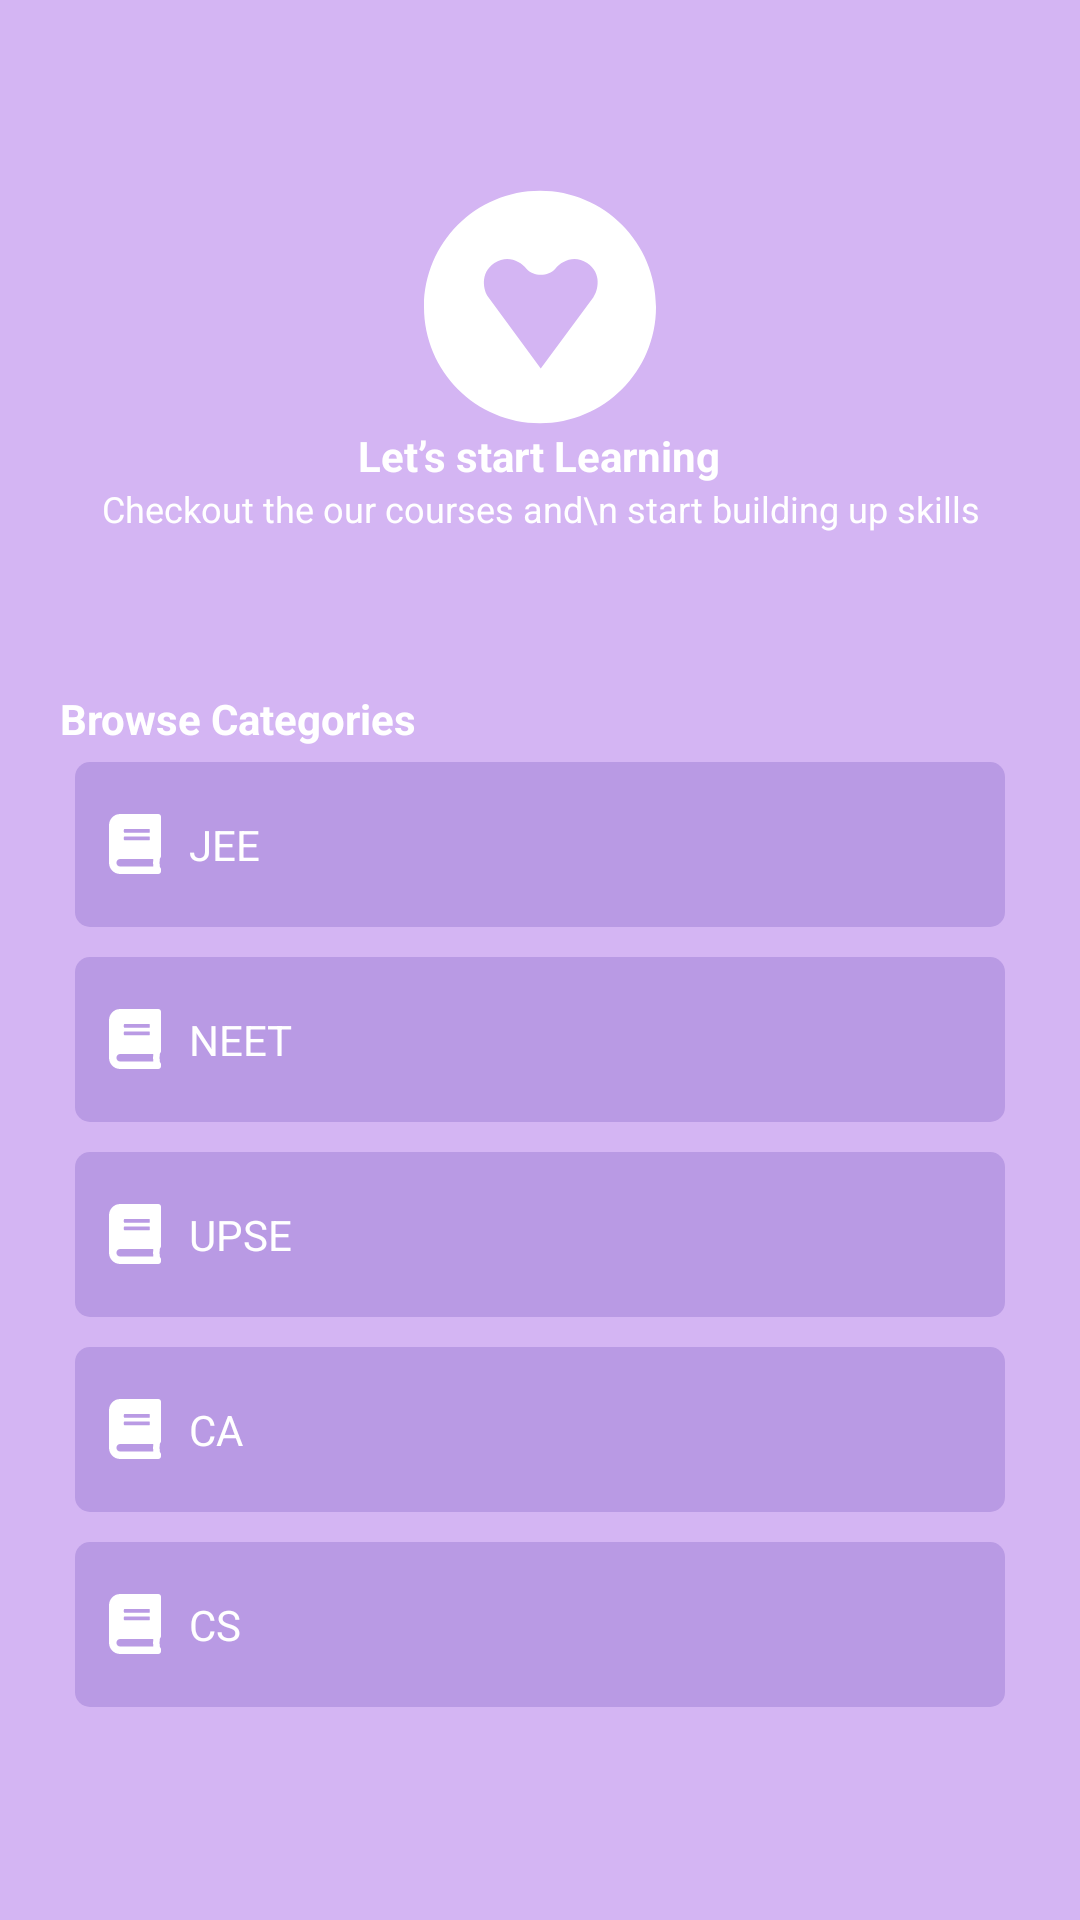

Icons on this 1080px x 1920px Android screen, each with its box as {"x1": x1, "y1": y1, "x2": x2, "y2": y2}:
course: {"x1": 109, "y1": 814, "x2": 161, "y2": 874}, {"x1": 109, "y1": 1009, "x2": 161, "y2": 1069}, {"x1": 109, "y1": 1204, "x2": 161, "y2": 1264}, {"x1": 109, "y1": 1399, "x2": 161, "y2": 1459}, {"x1": 109, "y1": 1594, "x2": 161, "y2": 1654}
heart: {"x1": 424, "y1": 191, "x2": 656, "y2": 423}
